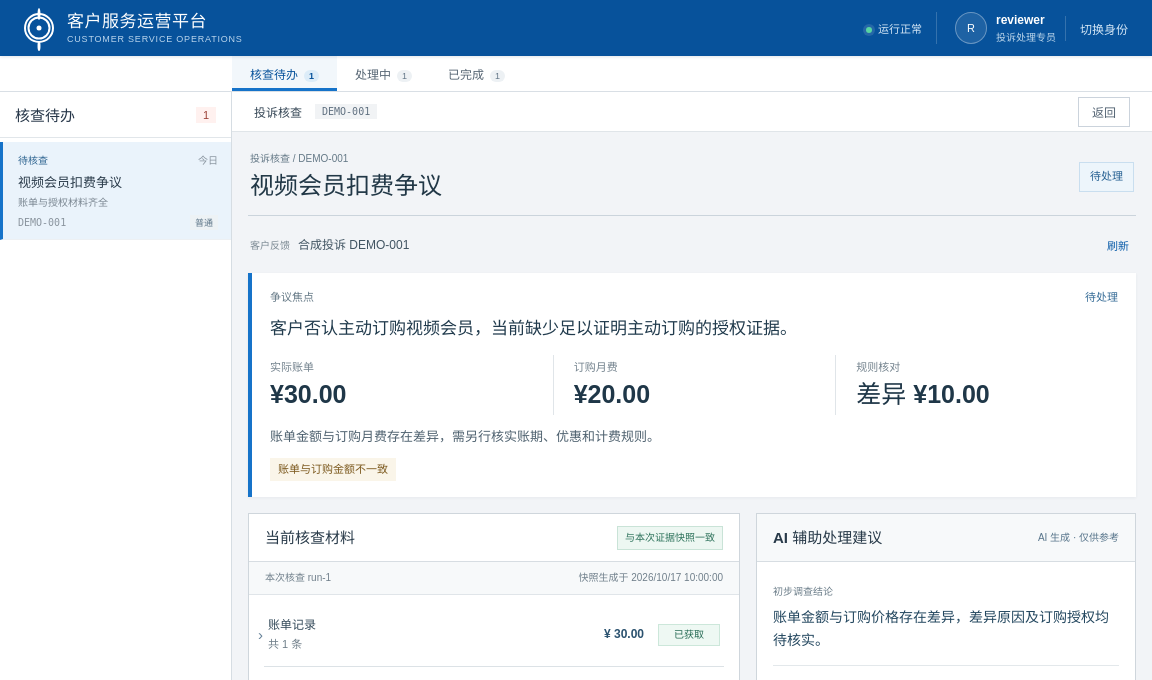
投诉专员页签按真实工作流状态筛选，并显示各分类数量
Expected: the text "视频会员扣费争议" is shown, [18,175,122,190]
Click the button "处理中1". click: (384, 74)
box: [337,56,430,91]
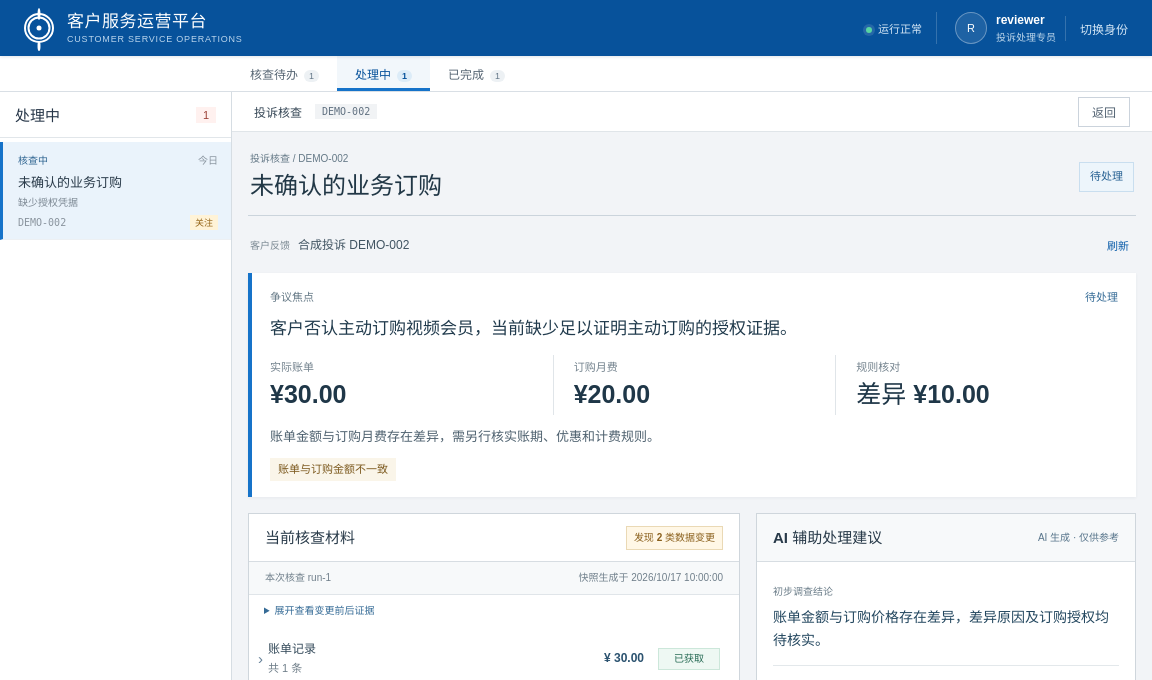
Result: the text "未确认的业务订购" is shown at [18,175,122,190]
Click the button "已完成1". click: (477, 74)
box: [430,56,523,91]
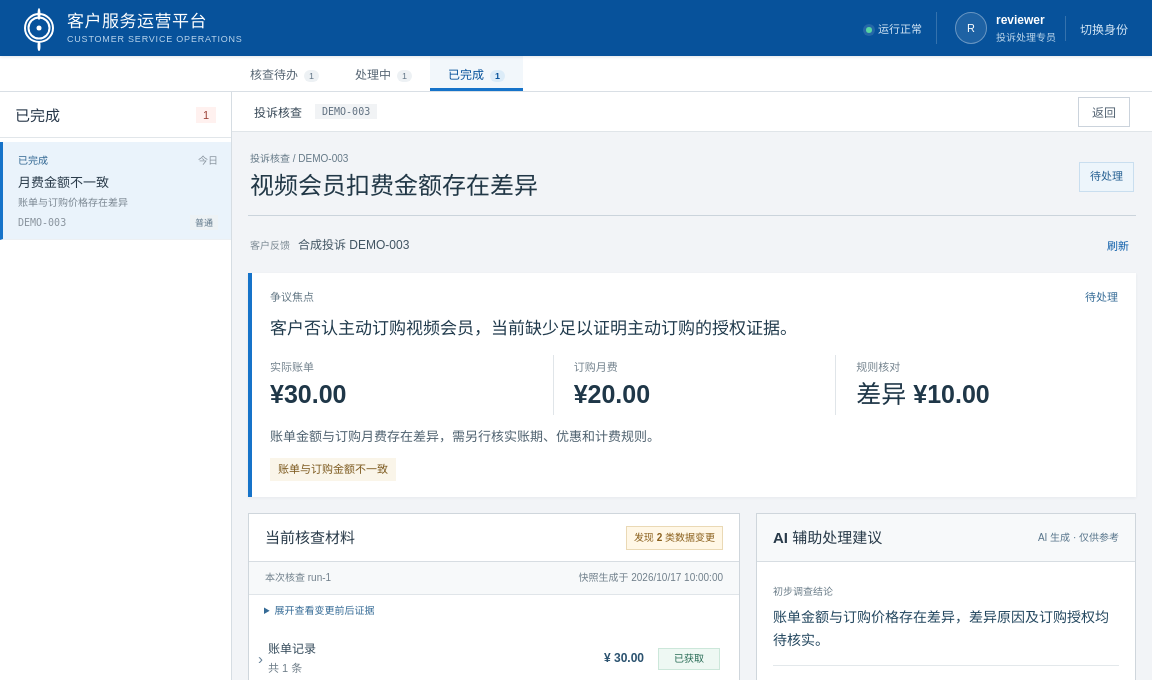
Result: the text "月费金额不一致" is shown at [18,175,109,190]
